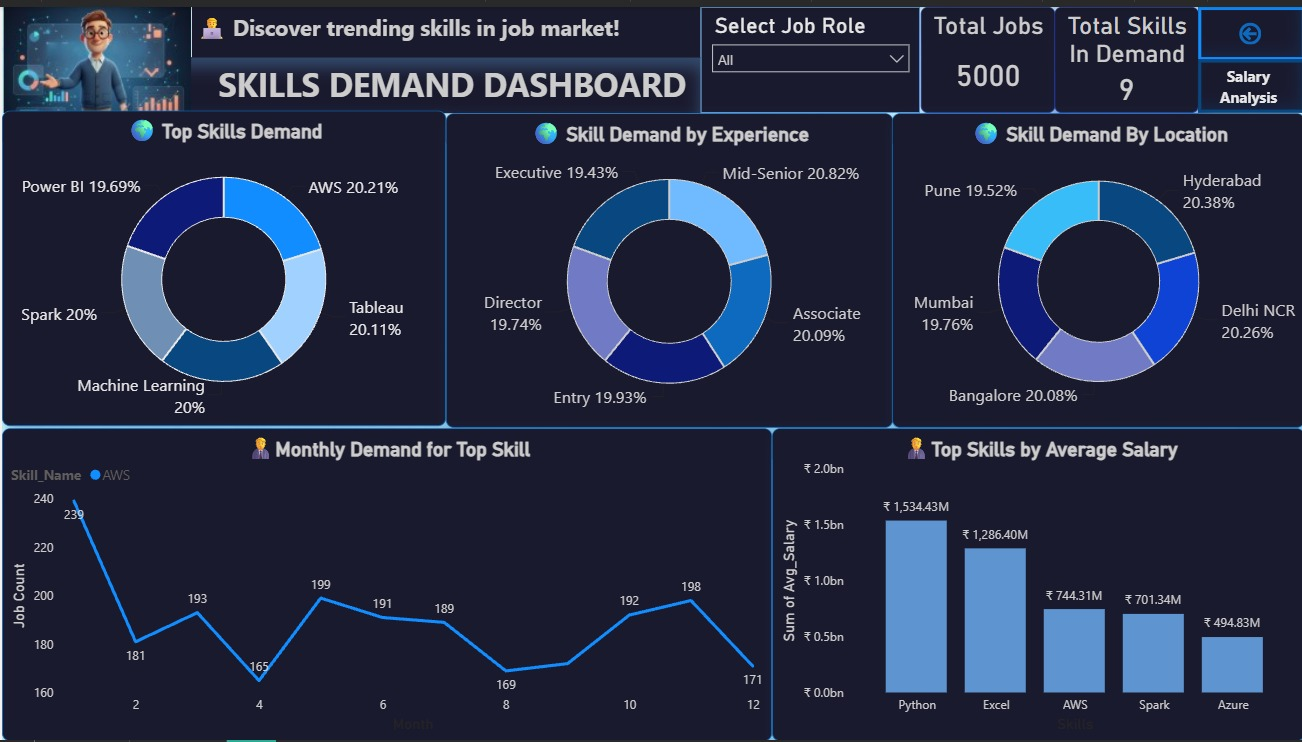

What the dashboard file says about the page in this screenshot:
{"tool":"powerbi","page":{"name":"Page 2","canvas":[1280,720],"ordinal":1},"visuals":[{"type":"textbox","box":[141.3,49.4,544.8,54.9],"z":0},{"type":"textbox","box":[186.6,0,499.5,49.4],"z":1000},{"type":"image","box":[0,0,187.2,103.8],"z":2000},{"type":"slicer","fields":{"Values":["job_market fact_jobs.Job_Title"]},"box":[686.1,0,215.4,104.3],"z":3000},{"type":"card","title":"Total Jobs","fields":{"Values":["skills_by_role.Total Jobs"]},"box":[901.5,0,131.7,104.3],"z":4000},{"type":"card","title":"Total Skills In Demand","fields":{"Values":["skills_by_role.Total Skill Demand"]},"box":[1033.3,0,141.3,104.3],"z":5000},{"type":"donutChart","title":"🌍 Top Skills Demand","fields":{"Category":["job_market dim_skills.Skill_Name"],"Y":["skills_by_role.Job Count"]},"box":[0,102.1,435.7,309.8],"z":6000},{"type":"donutChart","title":"🌍 Skill Demand by Experience","fields":{"Category":["job_market fact_jobs.Experience_Level"],"Y":["skills_by_role.Jobs by Experience"]},"box":[435,104.3,439.1,308.7],"z":7000},{"type":"donutChart","title":"🌍 Skill Demand By Location","fields":{"Category":["job_market dim_location.City"],"Y":["skills_by_role.Jobs by Location"]},"box":[874.1,104.3,406.2,308.7],"z":8000},{"type":"lineChart","title":"🧑💼Monthly Demand for Top Skill","fields":{"Category":["job_market fact_jobs.Month"],"Series":["job_market dim_skills.Skill_Name"],"Y":["skills_by_role.Job Count"]},"box":[0,413,756.1,307.4],"z":9000},{"type":"columnChart","title":"🧑💼Top Skills by Average Salary","fields":{"Category":["job_market_realistic_5000.Skills"],"Y":["Sum(job_market_realistic_5000.Avg_Salary)"]},"box":[756.1,413,524.2,307.4],"z":10000},{"type":"actionButton","box":[1174.6,0,105.7,52.1],"z":11000},{"type":"actionButton","box":[1174.6,52.1,105.7,52.1],"z":12000}]}

Visuals, with their boxes in screenshot pixels (x1, y1, x2, y2), scaled from the page's 1280x720 canvas onto the 1302x742 screenshot:
textbox: bbox=(144, 51, 698, 107)
textbox: bbox=(190, 0, 698, 51)
image: bbox=(0, 0, 190, 107)
slicer - job_market fact_jobs.Job_Title: bbox=(698, 0, 917, 107)
"Total Jobs" card: bbox=(917, 0, 1051, 107)
"Total Skills In Demand" card: bbox=(1051, 0, 1195, 107)
"🌍 Top Skills Demand" donutChart: bbox=(0, 105, 443, 424)
"🌍 Skill Demand by Experience" donutChart: bbox=(442, 107, 889, 426)
"🌍 Skill Demand By Location" donutChart: bbox=(889, 107, 1301, 426)
"🧑💼Monthly Demand for Top Skill" lineChart: bbox=(0, 426, 769, 741)
"🧑💼Top Skills by Average Salary" columnChart: bbox=(769, 426, 1301, 741)
actionButton: bbox=(1195, 0, 1301, 54)
actionButton: bbox=(1195, 54, 1301, 107)
